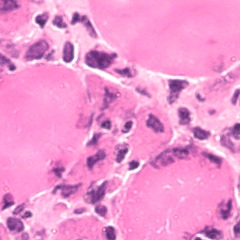New: (49, 216, 116, 240)
